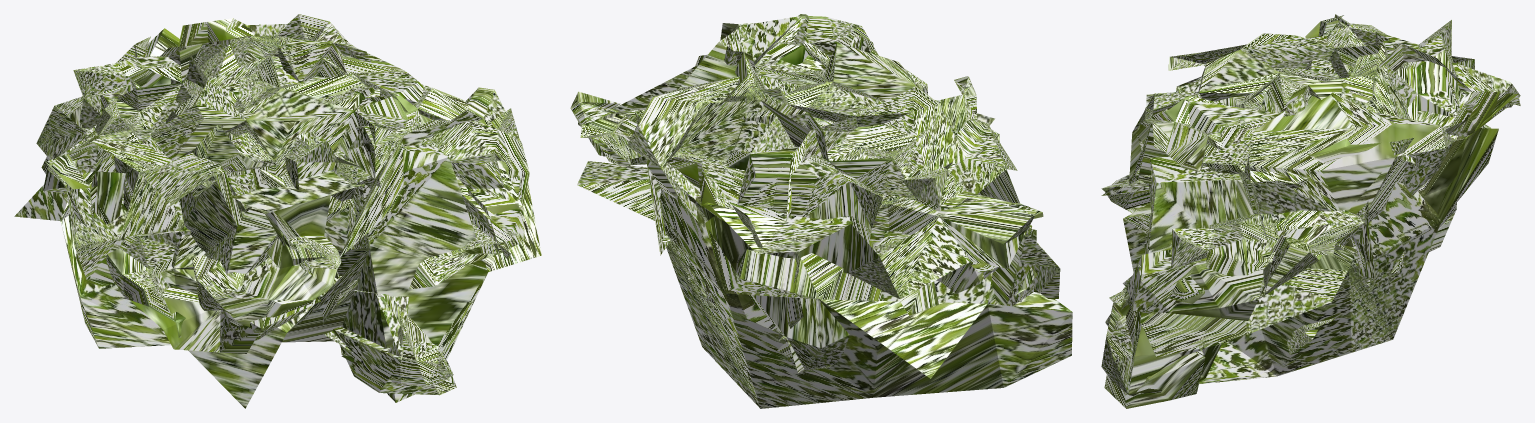
The model's file is imp-lettuce.glb.
3 renders of one model, left to right at view 1: azimuth 30°, elevation 25°; view 2: azimuth 150°, elevation 25°; view 3: azimuth 270°, elevation 25°, orthographic. The views are drawn at different scales.
Visible parts, largest first — view 1: Kerbside_metres_ground_pivot (×3); view 2: Kerbside_metres_ground_pivot (×3); view 3: Kerbside_metres_ground_pivot (×3).
Boxes of the visible parts, x1,y1,x2,y2 form: Kerbside_metres_ground_pivot (×3): (14,14,541,408); Kerbside_metres_ground_pivot (×3): (570,14,1072,408); Kerbside_metres_ground_pivot (×3): (1101,14,1520,408).
Size of the model in its own units: 0.22 by 0.1403 by 0.1745.
Materials: 1 (1 with a texture image).
